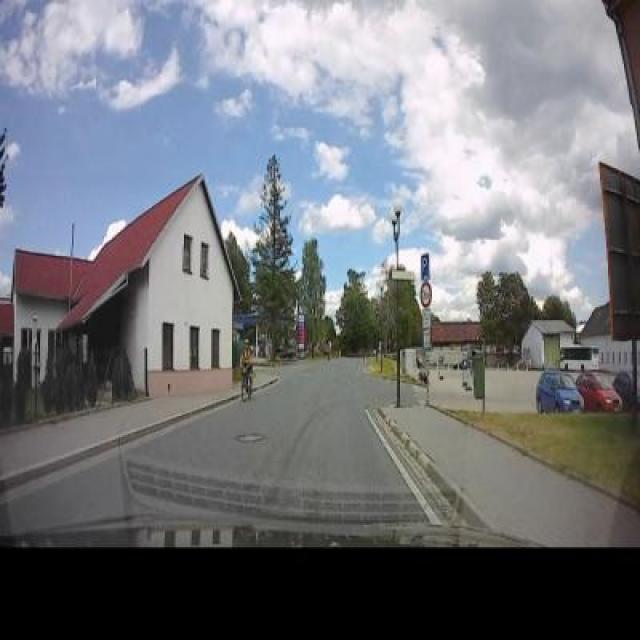clear-road: (130, 357, 404, 491)
